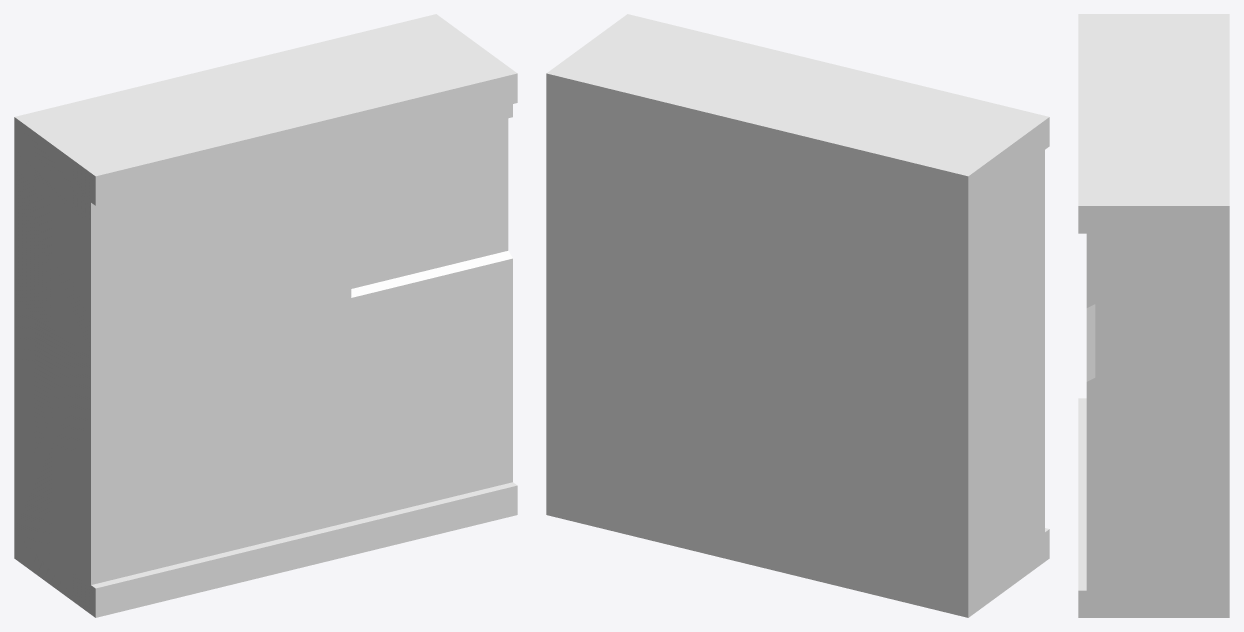
File: Wall_BubbleRight.glb
3 views of the same model, side by side, from view 1: azimuth 30°, elevation 25°; view 2: azimuth 150°, elevation 25°; view 3: azimuth 270°, elevation 25° (orthographic). The views are drawn at different scales.
Parts seen in each view (by area): view 1: Wall_BubbleRight; view 2: Wall_BubbleRight; view 3: Wall_BubbleRight.
Boxes of the visible parts, <box> form: Wall_BubbleRight: <box>14,14,517,617</box>; Wall_BubbleRight: <box>546,14,1049,617</box>; Wall_BubbleRight: <box>1078,14,1229,617</box>.
Size of the model in its own units: 3 by 3 by 1.
Materials: 1 (1 with a texture image).
